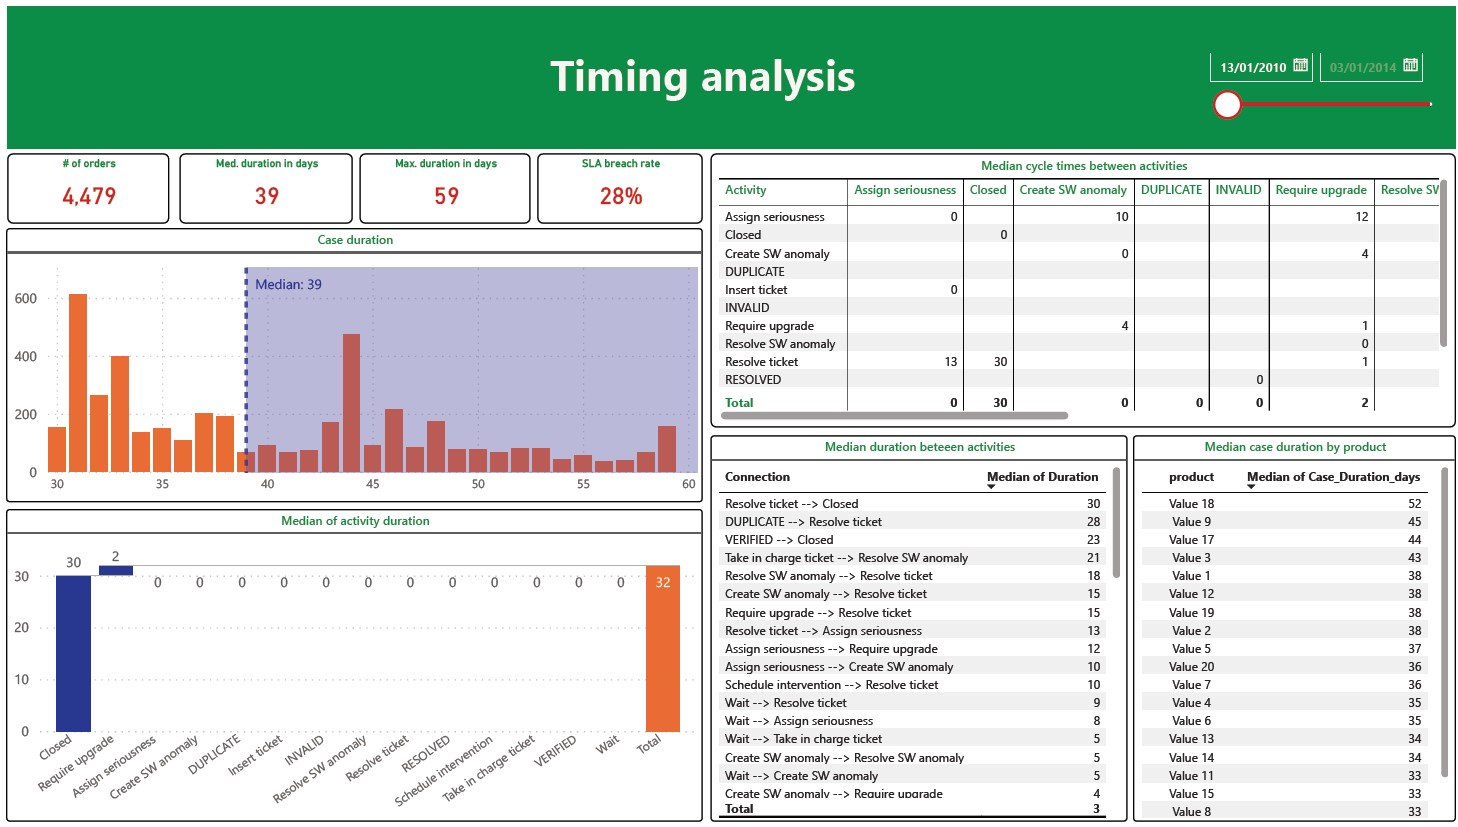

The page's visual inventory and layout, read from the dashboard file:
{"tool":"powerbi","page":{"name":"Timing","canvas":[1280,720],"ordinal":3},"visuals":[{"type":"shape","box":[1,0,1279,126.4],"z":0},{"type":"textbox","box":[447.4,30.2,335.3,67.2],"z":1000},{"type":"card","title":"Med. duration in days","fields":{"Values":["Median(Distinct_log (2).Case_Duration_days)"]},"box":[152.8,129.6,152.8,62.3],"z":2000},{"type":"card","title":"Max. duration in days","fields":{"Values":["Max(Distinct_log (2).Case_Duration_days)"]},"box":[311.7,129.6,151.6,62.3],"z":3000},{"type":"card","title":"SLA breach rate","fields":{"Values":["Distinct_log.SLA_Breach_rate"]},"box":[469.4,129.6,145.5,62.3],"z":4000},{"type":"card","title":"# of orders","fields":{"Values":["CountNonNull(Distinct_log (2).Case ID)"]},"box":[1.2,129.6,143,62.3],"z":5000},{"type":"slicer","title":"Time Period","fields":{"Values":["Helpdesk_log.Complete Timestamp"]},"box":[1049.9,17.2,230.1,93.1],"z":6000},{"type":"slicer","title":"Variants","fields":{"Values":["Distinct_log.Variants"]},"box":[288.5,195.6,180.9,64.8],"z":7000},{"type":"waterfallChart","title":"Median of activity duration","fields":{"Category":["Helpdesk_log.Activity"],"Y":["Median(Helpdesk_log.Duration)"]},"box":[0,443.7,614.9,276.3],"z":8000},{"type":"clusteredColumnChart","title":"Case duration","fields":{"Category":["Distinct_log (2).Case_Duration_days"],"Y":["CountNonNull(Distinct_log (2).Case ID)"]},"box":[0,195.6,614.9,242],"z":9000},{"type":"tableEx","title":"Median case duration by product","fields":{"Values":["Distinct_log (2).product","Median(Distinct_log (2).Case_Duration_days)"]},"box":[995,378.9,284.8,341.1],"z":10000},{"type":"pivotTable","title":"Median cycle times between activities","fields":{"Rows":["Process_details (2).Activity"],"Columns":["Process_details (2).Activity_2"],"Values":["Median(Process_details (2).Duration)"]},"box":[622.2,129.6,657.7,242],"z":11000},{"type":"tableEx","title":"Median duration beteeen activities","fields":{"Values":["Process_details (2).Connection","Median(Process_details (2).Duration)"]},"box":[622.2,378.9,367.9,341.1],"z":12000}]}

Visuals, with their boxes in screenshot pixels (x1, y1, x2, y2), scaled from the page's 1280x720 canvas onto the 1458x827 screenshot:
shape: (1,0,1457,145)
textbox: (510,35,892,112)
"Med. duration in days" card: (174,149,348,220)
"Max. duration in days" card: (355,149,528,220)
"SLA breach rate" card: (535,149,700,220)
"# of orders" card: (1,149,164,220)
"Time Period" slicer: (1196,20,1457,127)
"Variants" slicer: (329,225,535,299)
"Median of activity duration" waterfallChart: (0,510,700,826)
"Case duration" clusteredColumnChart: (0,225,700,503)
"Median case duration by product" tableEx: (1133,435,1457,826)
"Median cycle times between activities" pivotTable: (709,149,1457,427)
"Median duration beteeen activities" tableEx: (709,435,1128,826)
